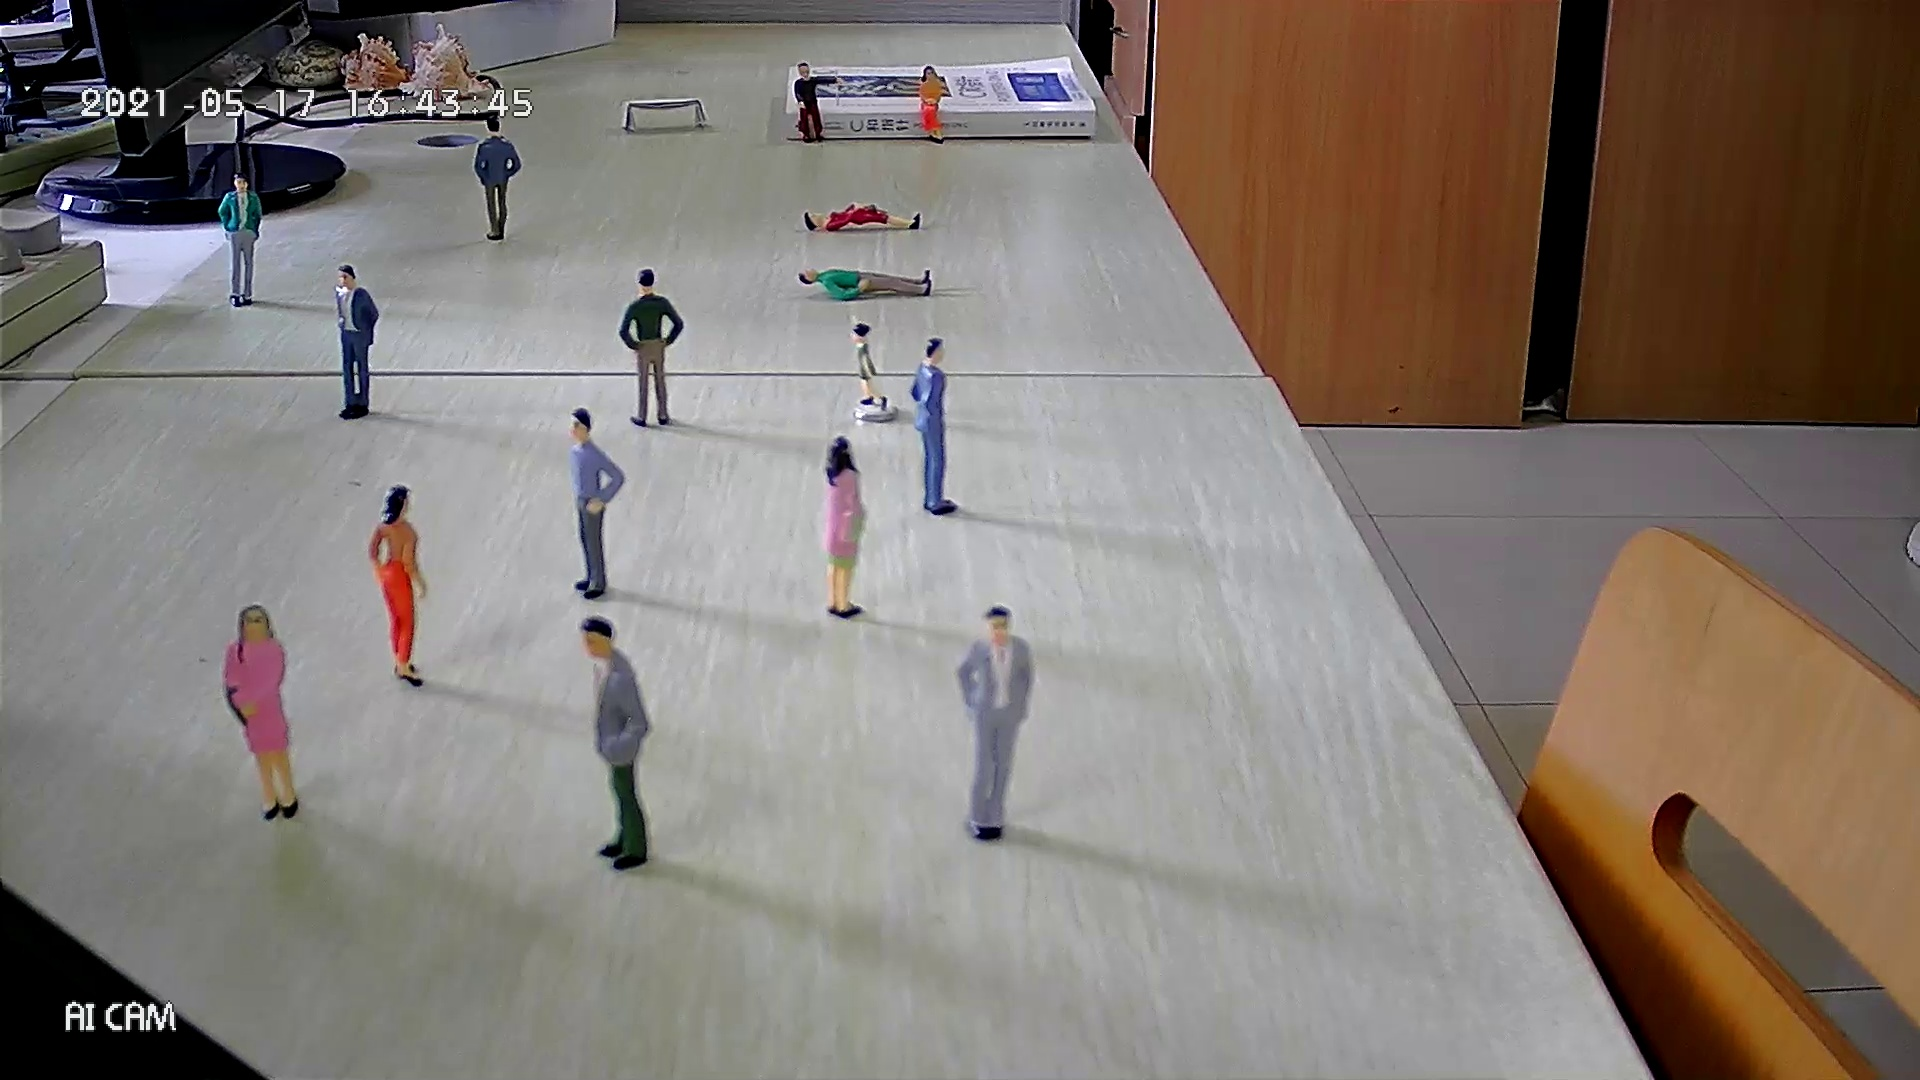person: (576, 613, 655, 872), (952, 602, 1036, 843), (219, 603, 300, 821), (365, 482, 429, 688), (567, 406, 626, 601), (618, 266, 686, 428), (906, 335, 958, 517), (821, 435, 868, 620), (333, 263, 379, 420), (216, 168, 264, 310), (473, 113, 523, 243), (793, 59, 845, 145), (797, 268, 933, 301), (847, 312, 889, 413), (803, 201, 923, 233), (917, 64, 946, 145)
